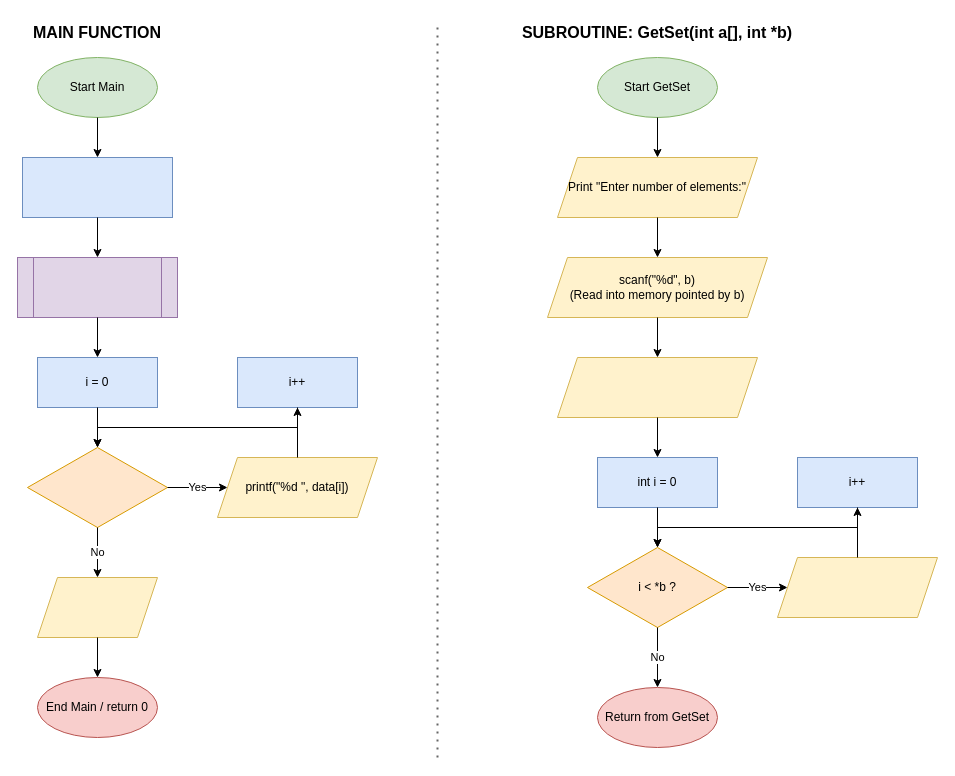
This 955x776 diagram has some shape labels left out. Each missing label, with the centre of its shape:
Call GetSet(data, &num): the point at 97,287
Declare int data[100], num: the point at 97,187
i < num ?: the point at 97,487
Print "Enter %d numbers", *b: the point at 657,387
printf("\n"): the point at 97,607
scanf("%d", &a[i]): the point at 857,587
